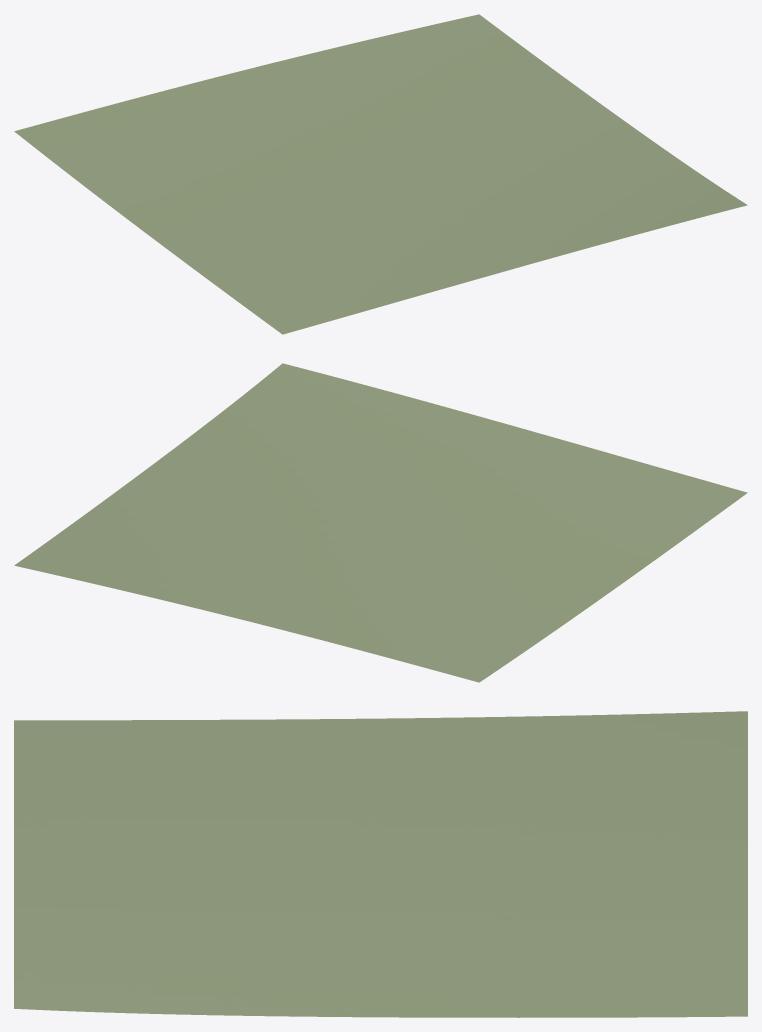
File: expanse-22-19.glb
The picture shows the model from 3 angles, top to bottom: view 1: azimuth 30°, elevation 25°; view 2: azimuth 150°, elevation 25°; view 3: azimuth 270°, elevation 25°; orthographic projection. The views are drawn at different scales.
Parts seen in each view (by area): view 1: expanse-22-19; view 2: expanse-22-19; view 3: expanse-22-19.
Part boxes in pixels (box(x1,y1,x2,y2)): expanse-22-19: box(14, 14, 747, 334); expanse-22-19: box(14, 363, 747, 682); expanse-22-19: box(14, 711, 747, 1017).
Size of the model in its own units: 256 by 8.35 by 256.
